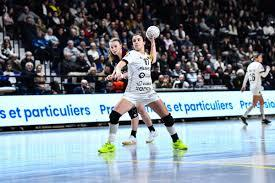ballon_handball: (146, 25, 161, 40)
